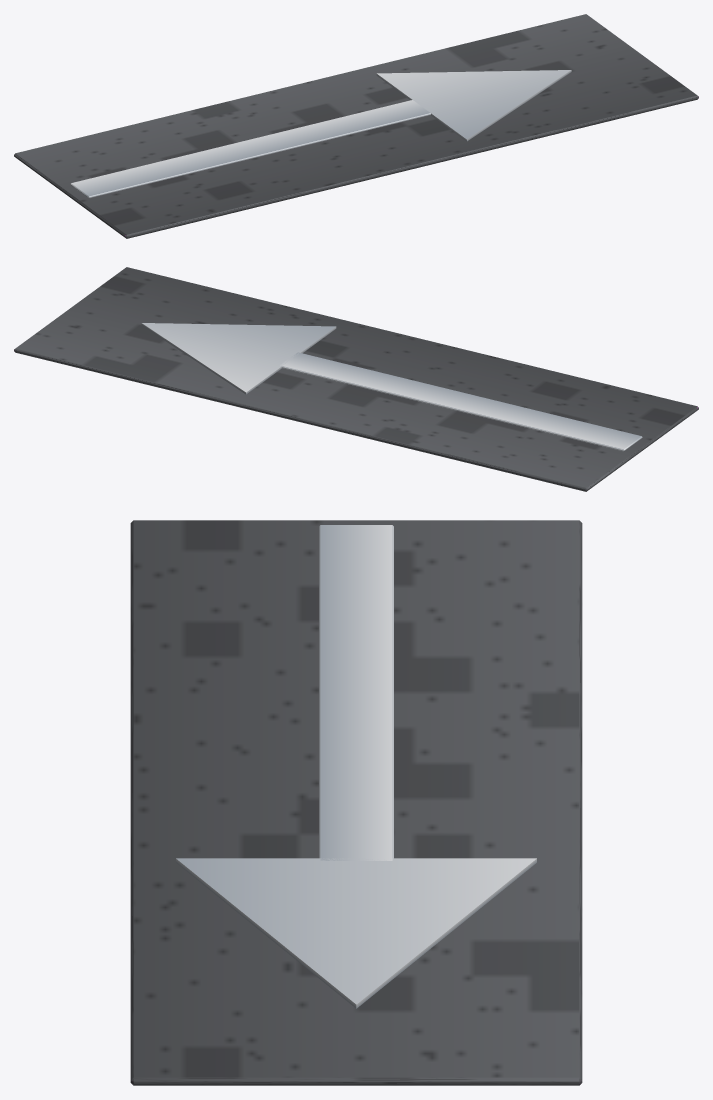
File: ck_road_marking_arrow.fbx
3 views of the same model, one above another, from view 1: azimuth 30°, elevation 25°; view 2: azimuth 150°, elevation 25°; view 3: azimuth 270°, elevation 25° (orthographic). The views are drawn at different scales.
Parts seen in each view (by area): view 1: ck_road_marking_arrow; view 2: ck_road_marking_arrow; view 3: ck_road_marking_arrow.
Part boxes in pixels (x1,y1,x2,y2): ck_road_marking_arrow: (14, 14, 698, 238); ck_road_marking_arrow: (14, 267, 698, 491); ck_road_marking_arrow: (130, 520, 582, 1085).
Bounding box in the file's own units: 390 × 3.99 × 133.
